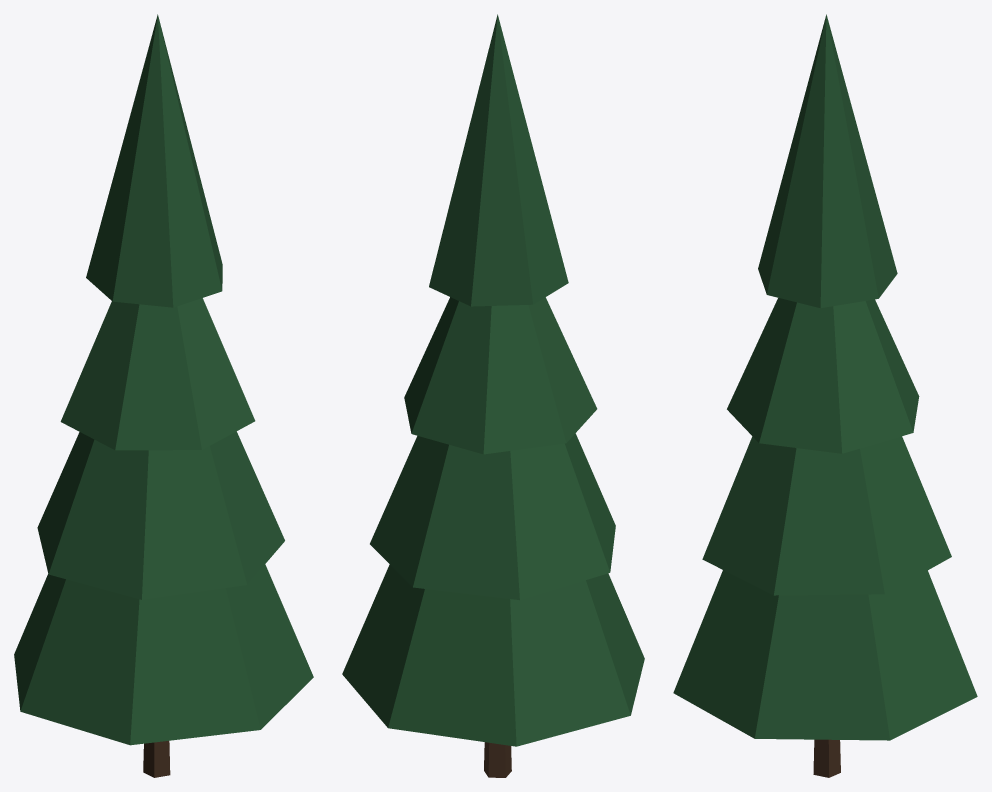
Rendered from sapin.glb.
The picture shows the model from 3 angles, left to right: view 1: azimuth 30°, elevation 25°; view 2: azimuth 150°, elevation 25°; view 3: azimuth 270°, elevation 25°; orthographic projection.
Parts seen in each view (by area): view 1: sapin; view 2: sapin; view 3: sapin.
Boxes of the visible parts, x1,y1,x2,y2 form: sapin: (14, 14, 313, 777); sapin: (342, 14, 644, 777); sapin: (673, 14, 977, 777).
Bounding box in the file's own units: 6.5 × 18.2 × 6.63.
1 material, 1 textured.
